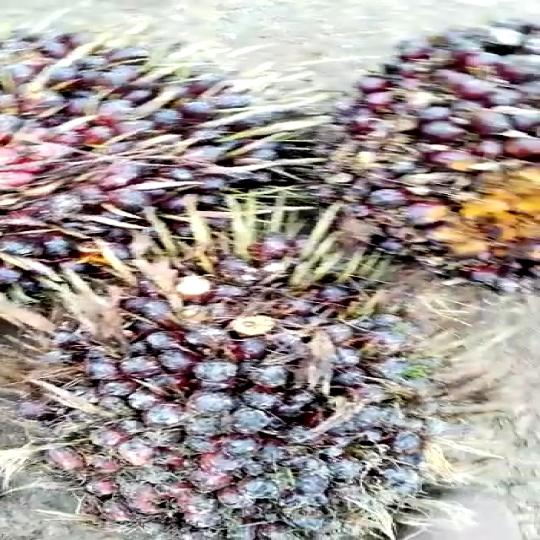kurang masak: (70, 245, 470, 540), (0, 27, 288, 298), (295, 10, 540, 298)
